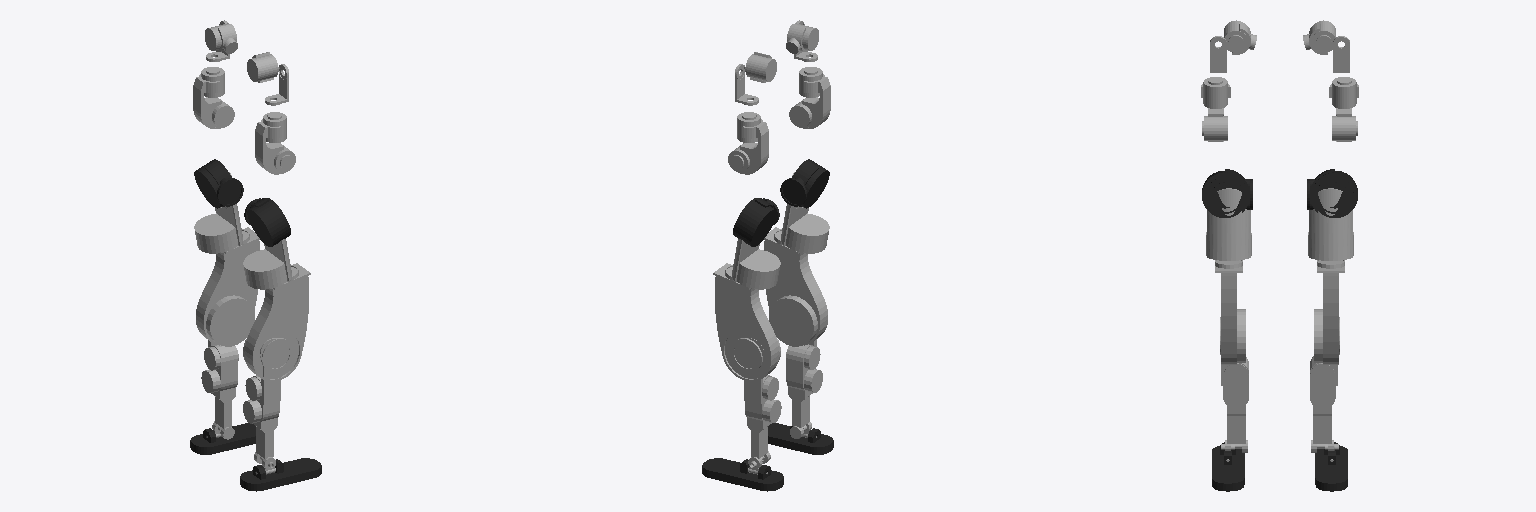
--- Facts derived from the render (not from the file) ---
The picture shows the robot from 3 angles, left to right: view 1: azimuth 30°, elevation 25°; view 2: azimuth 150°, elevation 25°; view 3: azimuth 270°, elevation 25°; orthographic projection.
Robot: g1_29dof_lock_waist_rev_1_0 — 39 links, 38 joints (27 revolute, 11 fixed); root link pelvis; default pose: every joint at zero.
Visible links, largest first — view 1: right_hip_yaw_link, left_hip_yaw_link, right_knee_link, left_knee_link, left_shoulder_yaw_link, right_shoulder_yaw_link, left_hip_roll_link, right_hip_roll_link, right_ankle_roll_link, left_hip_pitch_link, right_hip_pitch_link, left_ankle_roll_link (+2 smaller); view 2: left_hip_yaw_link, right_hip_yaw_link, left_knee_link, right_knee_link, right_shoulder_yaw_link, left_shoulder_yaw_link, right_hip_roll_link, left_hip_roll_link, left_ankle_roll_link, right_hip_pitch_link, left_hip_pitch_link, right_ankle_roll_link (+2 smaller); view 3: left_hip_roll_link, right_hip_roll_link, left_hip_yaw_link, right_hip_yaw_link, left_knee_link, right_knee_link, right_hip_pitch_link, left_hip_pitch_link, left_shoulder_yaw_link, right_shoulder_yaw_link, left_ankle_roll_link, right_ankle_roll_link (+4 smaller).
Link boxes in pixels (bbox=[...]): right_hip_yaw_link: bbox=[243, 263, 310, 381]; left_hip_yaw_link: bbox=[196, 227, 259, 346]; right_knee_link: bbox=[243, 338, 280, 469]; left_knee_link: bbox=[201, 340, 238, 439]; left_shoulder_yaw_link: bbox=[193, 67, 234, 128]; right_shoulder_yaw_link: bbox=[255, 112, 295, 174]; left_hip_roll_link: bbox=[194, 172, 242, 253]; right_hip_roll_link: bbox=[243, 239, 291, 289]; right_ankle_roll_link: bbox=[240, 458, 321, 491]; left_hip_pitch_link: bbox=[194, 159, 243, 208]; right_hip_pitch_link: bbox=[244, 198, 290, 246]; left_ankle_roll_link: bbox=[190, 423, 255, 454]; left_hip_yaw_link: bbox=[713, 263, 780, 381]; right_hip_yaw_link: bbox=[764, 227, 827, 346]; left_knee_link: bbox=[744, 338, 781, 469]; right_knee_link: bbox=[786, 339, 822, 438]; right_shoulder_yaw_link: bbox=[789, 67, 830, 128]; left_shoulder_yaw_link: bbox=[728, 112, 768, 174]; right_hip_roll_link: bbox=[781, 172, 829, 253]; left_hip_roll_link: bbox=[732, 239, 780, 289]; left_ankle_roll_link: bbox=[702, 458, 783, 491]; right_hip_pitch_link: bbox=[780, 159, 829, 208]; left_hip_pitch_link: bbox=[733, 198, 779, 246]; right_ankle_roll_link: bbox=[768, 423, 833, 454]; left_hip_roll_link: bbox=[1308, 188, 1353, 260]; right_hip_roll_link: bbox=[1206, 188, 1251, 260]; left_hip_yaw_link: bbox=[1314, 260, 1344, 364]; right_hip_yaw_link: bbox=[1215, 260, 1245, 364]; left_knee_link: bbox=[1310, 356, 1337, 452]; right_knee_link: bbox=[1221, 357, 1248, 452]; right_hip_pitch_link: bbox=[1202, 169, 1252, 217]; left_hip_pitch_link: bbox=[1307, 169, 1357, 217]; left_shoulder_yaw_link: bbox=[1329, 77, 1358, 141]; right_shoulder_yaw_link: bbox=[1201, 77, 1230, 141]; left_ankle_roll_link: bbox=[1315, 442, 1347, 491]; right_ankle_roll_link: bbox=[1212, 442, 1244, 491].
Bounding box of the posed robot: 0.208 × 0.3616 × 1.11 m (x, y, z).
Meshes: 35 distinct files referenced, 18 mesh visuals loaded (18 binary STL); not drawn: 17 (reference not matched to a file when rendering).

robot.urdf — g1_29dof_lock_waist_rev_1_0:
<robot name="g1_29dof_lock_waist_rev_1_0">
  <mujoco>
    <compiler meshdir="../meshes" discardvisual="false"/>
  </mujoco>

  <!-- [CAUTION] uncomment when convert to mujoco -->
  <!-- <link name="world"></link>
  <joint name="floating_base_joint" type="floating">
    <parent link="world"/>
    <child link="pelvis"/>
  </joint> -->

  <link name="pelvis">
    <inertial>
      <origin xyz="0 0 -0.07605" rpy="0 0 0"/>
      <mass value="3.813"/>
      <inertia ixx="0.010549" ixy="0" ixz="2.1E-06" iyy="0.0093089" iyz="0" izz="0.0079184"/>
    </inertial>
    <visual>
      <origin xyz="0 0 0" rpy="0 0 0"/>
      <geometry>
        <mesh filename="../meshes/pelvis.STL"/>
      </geometry>
      <material name="dark">
        <color rgba="0.2 0.2 0.2 1"/>
      </material>
    </visual>
  </link>
  <link name="pelvis_contour_link">
    <inertial>
      <origin xyz="0 0 0" rpy="0 0 0"/>
      <mass value="0.001"/>
      <inertia ixx="1e-7" ixy="0" ixz="0" iyy="1e-7" iyz="0" izz="1e-7"/>
    </inertial>
    <visual>
      <origin xyz="0 0 0" rpy="0 0 0"/>
      <geometry>
        <mesh filename="../meshes/pelvis_contour_link.STL"/>
      </geometry>
      <material name="white">
        <color rgba="0.7 0.7 0.7 1"/>
      </material>
    </visual>
    <collision>
      <origin xyz="0 0 0" rpy="0 0 0"/>
      <geometry>
        <mesh filename="../meshes/pelvis_contour_link.STL"/>
      </geometry>
    </collision>
  </link>
  <joint name="pelvis_contour_joint" type="fixed">
    <parent link="pelvis"/>
    <child link="pelvis_contour_link"/>
  </joint>

  <!-- Legs -->
  <link name="left_hip_pitch_link">
    <inertial>
      <origin xyz="0.002741 0.047791 -0.02606" rpy="0 0 0"/>
      <mass value="1.35"/>
      <inertia ixx="0.001811" ixy="3.68E-05" ixz="-3.44E-05" iyy="0.0014193" iyz="0.000171" izz="0.0012812"/>
    </inertial>
    <visual>
      <origin xyz="0 0 0" rpy="0 0 0"/>
      <geometry>
        <mesh filename="../meshes/left_hip_pitch_link.STL"/>
      </geometry>
      <material name="dark">
        <color rgba="0.2 0.2 0.2 1"/>
      </material>
    </visual>
    <collision>
      <origin xyz="0 0 0" rpy="0 0 0"/>
      <geometry>
        <mesh filename="../meshes/left_hip_pitch_link.STL"/>
      </geometry>
    </collision>
  </link>
  <joint name="left_hip_pitch_joint" type="revolute">
    <origin xyz="0 0.064452 -0.1027" rpy="0 0 0"/>
    <parent link="pelvis"/>
    <child link="left_hip_pitch_link"/>
    <axis xyz="0 1 0"/>
    <limit lower="-2.5307" upper="2.8798" effort="88" velocity="32"/>
  </joint>
  <link name="left_hip_roll_link">
    <inertial>
      <origin xyz="0.029812 -0.001045 -0.087934" rpy="0 0 0"/>
      <mass value="1.52"/>
      <inertia ixx="0.0023773" ixy="-3.8E-06" ixz="-0.0003908" iyy="0.0024123" iyz="1.84E-05" izz="0.0016595"/>
    </inertial>
    <visual>
      <origin xyz="0 0 0" rpy="0 0 0"/>
      <geometry>
        <mesh filename="../meshes/left_hip_roll_link.STL"/>
      </geometry>
      <material name="white">
        <color rgba="0.7 0.7 0.7 1"/>
      </material>
    </visual>
    <collision>
      <origin xyz="0 0 0" rpy="0 0 0"/>
      <geometry>
        <mesh filename="../meshes/left_hip_roll_link.STL"/>
      </geometry>
    </collision>
  </link>
  <joint name="left_hip_roll_joint" type="revolute">
    <origin xyz="0 0.052 -0.030465" rpy="0 -0.1749 0"/>
    <parent link="left_hip_pitch_link"/>
    <child link="left_hip_roll_link"/>
    <axis xyz="1 0 0"/>
    <limit lower="-0.5236" upper="2.9671" effort="139" velocity="20"/>
  </joint>
  <link name="left_hip_yaw_link">
    <inertial>
      <origin xyz="-0.057709 -0.010981 -0.15078" rpy="0 0 0"/>
      <mass value="1.702"/>
      <inertia ixx="0.0057774" ixy="-0.0005411" ixz="-0.0023948" iyy="0.0076124" iyz="-0.0007072" izz="0.003149"/>
    </inertial>
    <visual>
      <origin xyz="0 0 0" rpy="0 0 0"/>
      <geometry>
        <mesh filename="../meshes/left_hip_yaw_link.STL"/>
      </geometry>
      <material name="white">
        <color rgba="0.7 0.7 0.7 1"/>
      </material>
    </visual>
    <collision>
      <origin xyz="0 0 0" rpy="0 0 0"/>
      <geometry>
        <mesh filename="../meshes/left_hip_yaw_link.STL"/>
      </geometry>
    </collision>
  </link>
  <joint name="left_hip_yaw_joint" type="revolute">
    <origin xyz="0.025001 0 -0.12412" rpy="0 0 0"/>
    <parent link="left_hip_roll_link"/>
    <child link="left_hip_yaw_link"/>
    <axis xyz="0 0 1"/>
    <limit lower="-2.7576" upper="2.7576" effort="88" velocity="32"/>
  </joint>
  <link name="left_knee_link">
    <inertial>
      <origin xyz="0.005457 0.003964 -0.12074" rpy="0 0 0"/>
      <mass value="1.932"/>
      <inertia ixx="0.011329" ixy="4.82E-05" ixz="-4.49E-05" iyy="0.011277" iyz="-0.0007146" izz="0.0015168"/>
    </inertial>
    <visual>
      <origin xyz="0 0 0" rpy="0 0 0"/>
      <geometry>
        <mesh filename="../meshes/left_knee_link.STL"/>
      </geometry>
      <material name="white">
        <color rgba="0.7 0.7 0.7 1"/>
      </material>
    </visual>
    <collision>
      <origin xyz="0 0 0" rpy="0 0 0"/>
      <geometry>
        <mesh filename="../meshes/left_knee_link.STL"/>
      </geometry>
    </collision>
  </link>
  <joint name="left_knee_joint" type="revolute">
    <origin xyz="-0.078273 0.0021489 -0.17734" rpy="0 0.1749 0"/>
    <parent link="left_hip_yaw_link"/>
    <child link="left_knee_link"/>
    <axis xyz="0 1 0"/>
    <limit lower="-0.087267" upper="2.8798" effort="139" velocity="20"/>
  </joint>
  <link name="left_ankle_pitch_link">
    <inertial>
      <origin xyz="-0.007269 0 0.011137" rpy="0 0 0"/>
      <mass value="0.074"/>
      <inertia ixx="8.4E-06" ixy="0" ixz="-2.9E-06" iyy="1.89E-05" iyz="0" izz="1.26E-05"/>
    </inertial>
    <visual>
      <origin xyz="0 0 0" rpy="0 0 0"/>
      <geometry>
        <mesh filename="../meshes/left_ankle_pitch_link.STL"/>
      </geometry>
      <material name="white">
        <color rgba="0.7 0.7 0.7 1"/>
      </material>
    </visual>
    <collision>
      <origin xyz="0 0 0" rpy="0 0 0"/>
      <geometry>
        <mesh filename="../meshes/left_ankle_pitch_link.STL"/>
      </geometry>
    </collision>
  </link>
  <joint name="left_ankle_pitch_joint" type="revolute">
    <origin xyz="0 -9.4445E-05 -0.30001" rpy="0 0 0"/>
    <parent link="left_knee_link"/>
    <child link="left_ankle_pitch_link"/>
    <axis xyz="0 1 0"/>
    <limit lower="-0.87267" upper="0.5236" effort="50" velocity="37"/>
  </joint>
  <link name="left_ankle_roll_link">
    <inertial>
      <origin xyz="0.026505 0 -0.016425" rpy="0 0 0"/>
      <mass value="0.608"/>
      <inertia ixx="0.0002231" ixy="2E-07" ixz="8.91E-05" iyy="0.0016161" iyz="-1E-07" izz="0.0016667"/>
    </inertial>
    <visual>
      <origin xyz="0 0 0" rpy="0 0 0"/>
      <geometry>
        <mesh filename="../meshes/left_ankle_roll_link.STL"/>
      </geometry>
      <material name="dark">
        <color rgba="0.2 0.2 0.2 1"/>
      </material>
    </visual>
    <collision>
      <origin xyz="-0.05 0.025 -0.03" rpy="0 0 0"/>
      <geometry>
        <sphere radius="0.005"/>
      </geometry>
    </collision>
    <collision>
      <origin xyz="-0.05 -0.025 -0.03" rpy="0 0 0"/>
      <geometry>
        <sphere radius="0.005"/>
      </geometry>
    </collision>
    <collision>
      <origin xyz="0.12 0.03 -0.03" rpy="0 0 0"/>
      <geometry>
        <sphere radius="0.005"/>
      </geometry>
    </collision>
    <collision>
      <origin xyz="0.12 -0.03 -0.03" rpy="0 0 0"/>
      <geometry>
        <sphere radius="0.005"/>
      </geometry>
    </collision>
  </link>
  <joint name="left_ankle_roll_joint" type="revolute">
    <origin xyz="0 0 -0.017558" rpy="0 0 0"/>
    <parent link="left_ankle_pitch_link"/>
    <child link="left_ankle_roll_link"/>
    <axis xyz="1 0 0"/>
    <limit lower="-0.2618" upper="0.2618" effort="50" velocity="37"/>
  </joint>
  <link name="right_hip_pitch_link">
    <inertial>
      <origin xyz="0.002741 -0.047791 -0.02606" rpy="0 0 0"/>
      <mass value="1.35"/>
      <inertia ixx="0.001811" ixy="-3.68E-05" ixz="-3.44E-05" iyy="0.0014193" iyz="-0.000171" izz="0.0012812"/>
    </inertial>
    <visual>
      <origin xyz="0 0 0" rpy="0 0 0"/>
      <geometry>
        <mesh filename="../meshes/right_hip_pitch_link.STL"/>
      </geometry>
      <material name="dark">
        <color rgba="0.2 0.2 0.2 1"/>
      </material>
    </visual>
    <collision>
      <origin xyz="0 0 0" rpy="0 0 0"/>
      <geometry>
        <mesh filename="../meshes/right_hip_pitch_link.STL"/>
      </geometry>
    </collision>
  </link>
  <joint name="right_hip_pitch_joint" type="revolute">
    <origin xyz="0 -0.064452 -0.1027" rpy="0 0 0"/>
    <parent link="pelvis"/>
    <child link="right_hip_pitch_link"/>
    <axis xyz="0 1 0"/>
    <limit lower="-2.5307" upper="2.8798" effort="88" velocity="32"/>
  </joint>
  <link name="right_hip_roll_link">
    <inertial>
      <origin xyz="0.029812 0.001045 -0.087934" rpy="0 0 0"/>
      <mass value="1.52"/>
      <inertia ixx="0.0023773" ixy="3.8E-06" ixz="-0.0003908" iyy="0.0024123" iyz="-1.84E-05" izz="0.0016595"/>
    </inertial>
    <visual>
      <origin xyz="0 0 0" rpy="0 0 0"/>
      <geometry>
        <mesh filename="../meshes/right_hip_roll_link.STL"/>
      </geometry>
      <material name="white">
        <color rgba="0.7 0.7 0.7 1"/>
      </material>
    </visual>
    <collision>
      <origin xyz="0 0 0" rpy="0 0 0"/>
      <geometry>
        <mesh filename="../meshes/right_hip_roll_link.STL"/>
      </geometry>
    </collision>
  </link>
  <joint name="right_hip_roll_joint" type="revolute">
    <origin xyz="0 -0.052 -0.030465" rpy="0 -0.1749 0"/>
    <parent link="right_hip_pitch_link"/>
    <child link="right_hip_roll_link"/>
    <axis xyz="1 0 0"/>
    <limit lower="-2.9671" upper="0.5236" effort="139" velocity="20"/>
  </joint>
  <link name="right_hip_yaw_link">
    <inertial>
      <origin xyz="-0.057709 0.010981 -0.15078" rpy="0 0 0"/>
      <mass value="1.702"/>
      <inertia ixx="0.0057774" ixy="0.0005411" ixz="-0.0023948" iyy="0.0076124" iyz="0.0007072" izz="0.003149"/>
    </inertial>
    <visual>
      <origin xyz="0 0 0" rpy="0 0 0"/>
      <geometry>
        <mesh filename="../meshes/right_hip_yaw_link.STL"/>
      </geometry>
      <material name="white">
        <color rgba="0.7 0.7 0.7 1"/>
      </material>
    </visual>
    <collision>
      <origin xyz="0 0 0" rpy="0 0 0"/>
      <geometry>
        <mesh filename="../meshes/right_hip_yaw_link.STL"/>
      </geometry>
    </collision>
  </link>
  <joint name="right_hip_yaw_joint" type="revolute">
    <origin xyz="0.025001 0 -0.12412" rpy="0 0 0"/>
    <parent link="right_hip_roll_link"/>
    <child link="right_hip_yaw_link"/>
    <axis xyz="0 0 1"/>
    <limit lower="-2.7576" upper="2.7576" effort="88" velocity="32"/>
  </joint>
  <link name="right_knee_link">
    <inertial>
      <origin xyz="0.005457 -0.003964 -0.12074" rpy="0 0 0"/>
      <mass value="1.932"/>
      <inertia ixx="0.011329" ixy="-4.82E-05" ixz="4.49E-05" iyy="0.011277" iyz="0.0007146" izz="0.0015168"/>
    </inertial>
    <visual>
      <origin xyz="0 0 0" rpy="0 0 0"/>
      <geometry>
        <mesh filename="../meshes/right_knee_link.STL"/>
      </geometry>
      <material name="white">
        <color rgba="0.7 0.7 0.7 1"/>
      </material>
    </visual>
    <collision>
      <origin xyz="0 0 0" rpy="0 0 0"/>
      <geometry>
        <mesh filename="../meshes/right_knee_link.STL"/>
      </geometry>
    </collision>
  </link>
  <joint name="right_knee_joint" type="revolute">
    <origin xyz="-0.078273 -0.0021489 -0.17734" rpy="0 0.1749 0"/>
    <parent link="right_hip_yaw_link"/>
    <child link="right_knee_link"/>
    <axis xyz="0 1 0"/>
    <limit lower="-0.087267" upper="2.8798" effort="139" velocity="20"/>
  </joint>
  <link name="right_ankle_pitch_link">
    <inertial>
      <origin xyz="-0.007269 0 0.011137" rpy="0 0 0"/>
      <mass value="0.074"/>
      <inertia ixx="8.4E-06" ixy="0" ixz="-2.9E-06" iyy="1.89E-05" iyz="0" izz="1.26E-05"/>
    </inertial>
    <visual>
      <origin xyz="0 0 0" rpy="0 0 0"/>
      <geometry>
        <mesh filename="../meshes/right_ankle_pitch_link.STL"/>
      </geometry>
      <material name="white">
        <color rgba="0.7 0.7 0.7 1"/>
      </material>
    </visual>
    <collision>
      <origin xyz="0 0 0" rpy="0 0 0"/>
      <geometry>
        <mesh filename="../meshes/right_ankle_pitch_link.STL"/>
      </geometry>
    </collision>
  </link>
  <joint name="right_ankle_pitch_joint" type="revolute">
    <origin xyz="0 9.4445E-05 -0.30001" rpy="0 0 0"/>
    <parent link="right_knee_link"/>
    <child link="right_ankle_pitch_link"/>
    <axis xyz="0 1 0"/>
    <limit lower="-0.87267" upper="0.5236" effort="50" velocity="37"/>
  </joint>
  <link name="right_ankle_roll_link">
    <inertial>
      <origin xyz="0.026505 0 -0.016425" rpy="0 0 0"/>
      <mass value="0.608"/>
      <inertia ixx="0.0002231" ixy="-2E-07" ixz="8.91E-05" iyy="0.0016161" iyz="1E-07" izz="0.0016667"/>
    </inertial>
    <visual>
      <origin xyz="0 0 0" rpy="0 0 0"/>
      <geometry>
        <mesh filename="../meshes/right_ankle_roll_link.STL"/>
      </geometry>
      <material name="dark">
        <color rgba="0.2 0.2 0.2 1"/>
      </material>
    </visual>
    <collision>
      <origin xyz="-0.05 0.025 -0.03" rpy="0 0 0"/>
      <geometry>
        <sphere radius="0.005"/>
      </geometry>
    </collision>
    <collision>
      <origin xyz="-0.05 -0.025 -0.03" rpy="0 0 0"/>
      <geometry>
        <sphere radius="0.005"/>
      </geometry>
    </collision>
    <collision>
      <origin xyz="0.12 0.03 -0.03" rpy="0 0 0"/>
      <geometry>
        <sphere radius="0.005"/>
      </geometry>
    </collision>
    <collision>
      <origin xyz="0.12 -0.03 -0.03" rpy="0 0 0"/>
      <geometry>
        <sphere radius="0.005"/>
      </geometry>
    </collision>
  </link>
  <joint name="right_ankle_roll_joint" type="revolute">
    <origin xyz="0 0 -0.017558" rpy="0 0 0"/>
    <parent link="right_ankle_pitch_link"/>
    <child link="right_ankle_roll_link"/>
    <axis xyz="1 0 0"/>
    <limit lower="-0.2618" upper="0.2618" effort="50" velocity="37"/>
  </joint>

  <!-- Torso -->
  <link name="waist_yaw_link">
    <inertial>
      <origin xyz="0.003494 0.000233 0.018034" rpy="0 0 0"/>
      <mass value="0.214"/>
      <inertia ixx="0.00010673" ixy="2.703E-06" ixz="-7.631E-06" iyy="0.00010422" iyz="-2.01E-07" izz="0.0001625"/>
    </inertial>
    <visual>
      <origin xyz="0 0 0" rpy="0 0 0"/>
      <geometry>
        <mesh filename="../meshes/waist_yaw_link_rev_1_0.STL"/>
      </geometry>
      <material name="white">
        <color rgba="0.7 0.7 0.7 1"/>
      </material>
    </visual>
  </link>
  <joint name="waist_yaw_joint" type="revolute">
    <origin xyz="0 0 0" rpy="0 0 0"/>
    <parent link="pelvis"/>
    <child link="waist_yaw_link"/>
    <axis xyz="0 0 1"/>
    <limit lower="-2.618" upper="2.618" effort="88" velocity="32"/>
  </joint>
  <link name="waist_roll_link">
    <inertial>
      <origin xyz="0 2.3E-05 0" rpy="0 0 0"/>
      <mass value="0.086"/>
      <inertia ixx="7.079E-06" ixy="0" ixz="0" iyy="6.339E-06" iyz="0" izz="8.245E-06"/>
    </inertial>
    <visual>
      <origin xyz="0 0 0" rpy="0 0 0"/>
      <geometry>
        <mesh filename="../meshes/waist_roll_link_rev_1_0.STL"/>
      </geometry>
      <material name="white">
        <color rgba="0.7 0.7 0.7 1"/>
      </material>
    </visual>
  </link>
  <joint name="waist_roll_joint" type="fixed">
    <origin xyz="-0.0039635 0 0.044" rpy="0 0 0"/>
    <parent link="waist_yaw_link"/>
    <child link="waist_roll_link"/>
    <axis xyz="1 0 0"/>
    <limit lower="-0.52" upper="0.52" effort="50" velocity="37"/>
  </joint>
  <link name="torso_link">
    <inertial>
      <origin xyz="0.000931 0.000346 0.15082" rpy="0 0 0"/>
      <mass value="6.78"/>
      <inertia ixx="0.05905" ixy="3.3302E-05" ixz="-0.0017715" iyy="0.047014" iyz="-2.2399E-05" izz="0.025652"/>
    </inertial>
    <visual>
      <origin xyz="0 0 0" rpy="0 0 0"/>
      <geometry>
        <mesh filename="../meshes/torso_link_rev_1_0.STL"/>
      </geometry>
      <material name="white">
        <color rgba="0.7 0.7 0.7 1"/>
      </material>
    </visual>
    <collision>
      <origin xyz="0 0 0" rpy="0 0 0"/>
      <geometry>
        <mesh filename="../meshes/torso_link_rev_1_0.STL"/>
      </geometry>
    </collision>
  </link>
  <joint name="waist_pitch_joint" type="fixed">
    <origin xyz="0 0 0" rpy="0 0 0"/>
    <parent link="waist_roll_link"/>
    <child link="torso_link"/>
    <axis xyz="0 1 0"/>
    <limit lower="-0.52" upper="0.52" effort="50" velocity="37"/>
  </joint>

  <!-- LOGO -->
  <joint name="logo_joint" type="fixed">
    <origin xyz="0.0039635 0 -0.044" rpy="0 0 0"/>
    <parent link="torso_link"/>
    <child link="logo_link"/>
  </joint>
  <link name="logo_link">
    <inertial>
      <origin xyz="0 0 0" rpy="0 0 0"/>
      <mass value="0.001"/>
      <inertia ixx="1e-7" ixy="0" ixz="0" iyy="1e-7" iyz="0" izz="1e-7"/>
    </inertial>
    <visual>
      <origin xyz="0 0 0" rpy="0 0 0"/>
      <geometry>
        <mesh filename="../meshes/logo_link.STL"/>
      </geometry>
      <material name="dark">
        <color rgba="0.2 0.2 0.2 1"/>
      </material>
    </visual>
    <collision>
      <origin xyz="0 0 0" rpy="0 0 0"/>
      <geometry>
        <mesh filename="../meshes/logo_link.STL"/>
      </geometry>
    </collision>
  </link>

  <!-- Head -->
  <link name="head_link">
    <inertial>
      <origin xyz="0.005267 0.000299 0.449869" rpy="0 0 0"/>
      <mass value="1.036"/>
      <inertia ixx="0.004085051" ixy="-2.543E-06" ixz="-6.9455E-05" iyy="0.004185212" iyz="-3.726E-06" izz="0.001807911"/>
    </inertial>
    <visual>
      <origin xyz="0 0 0" rpy="0 0 0"/>
      <geometry>
        <mesh filename="../meshes/head_link.STL"/>
      </geometry>
      <material name="dark">
        <color rgba="0.2 0.2 0.2 1"/>
      </material>
    </visual>
    <collision>
      <origin xyz="0 0 0" rpy="0 0 0"/>
      <geometry>
        <mesh filename="../meshes/head_link.STL"/>
      </geometry>
    </collision>
  </link>
  <joint name="head_joint" type="fixed">
    <origin xyz="0.0039635 0 -0.044" rpy="0 0 0"/>
    <parent link="torso_link"/>
    <child link="head_link"/>
  </joint>


  <!-- IMU -->
  <link name="imu_in_torso"></link>
  <joint name="imu_in_torso_joint" type="fixed">
    <origin xyz="-0.03959 -0.00224 0.14792" rpy="0 0 0"/>
    <parent link="torso_link"/>
    <child link="imu_in_torso"/>
  </joint>

  <link name="imu_in_pelvis"></link>
  <joint name="imu_in_pelvis_joint" type="fixed">
    <origin xyz="0.04525 0 -0.08339" rpy="0 0 0"/>
    <parent link="pelvis"/>
    <child link="imu_in_pelvis"/>
  </joint>

  <!-- d435 -->
  <link name="d435_link"></link>
  <joint name="d435_joint" type="fixed">
    <origin xyz="0.0576235 0.01753 0.42987" rpy="0 0.8307767239493009 0"/>
    <parent link="torso_link"/>
    <child link="d435_link"/>
  </joint>

  <!-- mid360 -->
  <link name="mid360_link"></link>
  <joint name="mid360_joint" type="fixed">
    <origin xyz="0.0002835 0.00003 0.41618" rpy="0 0.04014257279586953 0"/>
    <parent link="torso_link"/>
    <child link="mid360_link"/>
  </joint>

  <!-- Arm -->
  <link name="left_shoulder_pitch_link">
    <inertial>
      <origin xyz="0 0.035892 -0.011628" rpy="0 0 0"/>
      <mass value="0.718"/>
      <inertia ixx="0.0004291" ixy="-9.2E-06" ixz="6.4E-06" iyy="0.000453" iyz="2.26E-05" izz="0.000423"/>
    </inertial>
    <visual>
      <origin xyz="0 0 0" rpy="0 0 0"/>
      <geometry>
        <mesh filename="../meshes/left_shoulder_pitch_link.STL"/>
      </geometry>
      <material name="white">
        <color rgba="0.7 0.7 0.7 1"/>
      </material>
    </visual>
    <collision>
      <origin xyz="0 0.04 -0.01" rpy="0 1.5707963267948966 0"/>
      <geometry>
        <cylinder radius="0.03" length="0.05"/>
      </geometry>
    </collision>
  </link>
  <joint name="left_shoulder_pitch_joint" type="revolute">
    <origin xyz="0.0039563 0.10022 0.24778" rpy="0.27931 5.4949E-05 -0.00019159"/>
    <parent link="torso_link"/>
    <child link="left_shoulder_pitch_link"/>
    <axis xyz="0 1 0"/>
    <limit lower="-3.0892" upper="2.6704" effort="25" velocity="37"/>
  </joint>
  <link name="left_shoulder_roll_link">
    <inertial>
      <origin xyz="-0.000227 0.00727 -0.063243" rpy="0 0 0"/>
      <mass value="0.643"/>
      <inertia ixx="0.0006177" ixy="-1E-06" ixz="8.7E-06" iyy="0.0006912" iyz="-5.3E-06" izz="0.0003894"/>
    </inertial>
    <visual>
      <origin xyz="0 0 0" rpy="0 0 0"/>
      <geometry>
        <mesh filename="../meshes/left_shoulder_roll_link.STL"/>
      </geometry>
      <material name="white">
        <color rgba="0.7 0.7 0.7 1"/>
      </material>
    </visual>
    <collision>
      <origin xyz="-0.004 0.006 -0.053" rpy="0 0 0"/>
      <geometry>
        <cylinder radius="0.03" length="0.03"/>
      </geometry>
    </collision>
  </link>
  <joint name="left_shoulder_roll_joint" type="revolute">
    <origin xyz="0 0.038 -0.013831" rpy="-0.27925 0 0"/>
    <parent link="left_shoulder_pitch_link"/>
    <child link="left_shoulder_roll_link"/>
    <axis xyz="1 0 0"/>
    <limit lower="-1.5882" upper="2.2515" effort="25" velocity="37"/>
  </joint>
  <link name="left_shoulder_yaw_link">
    <inertial>
      <origin xyz="0.010773 -0.002949 -0.072009" rpy="0 0 0"/>
      <mass value="0.734"/>
      <inertia ixx="0.0009988" ixy="7.9E-06" ixz="0.0001412" iyy="0.0010605" iyz="-2.86E-05" izz="0.0004354"/>
    </inertial>
    <visual>
      <origin xyz="0 0 0" rpy="0 0 0"/>
      <geometry>
        <mesh filename="../meshes/left_shoulder_yaw_link.STL"/>
      </geometry>
      <material name="white">
        <color rgba="0.7 0.7 0.7 1"/>
      </material>
    </visual>
    <collision>
      <origin xyz="0 0 0" rpy="0 0 0"/>
      <geometry>
        <mesh filename="../meshes/left_shoulder_yaw_link.STL"/>
      </geometry>
    </collision>
  </link>
  <joint name="left_shoulder_yaw_joint" type="revolute">
    <origin xyz="0 0.00624 -0.1032" rpy="0 0 0"/>
    <parent link="left_shoulder_roll_link"/>
    <child link="left_shoulder_yaw_link"/>
    <axis xyz="0 0 1"/>
    <limit lower="-2.618" upper="2.618" effort="25" velocity="37"/>
  </joint>
  <link name="left_elbow_link">
    <inertial>
      <origin xyz="0.064956 0.004454 -0.010062" rpy="0 0 0"/>
      <mass value="0.6"/>
      <inertia ixx="0.0002891" ixy="6.53E-05" ixz="1.72E-05" iyy="0.0004152" iyz="-5.6E-06" izz="0.0004197"/>
    </inertial>
    <visual>
      <origin xyz="0 0 0" rpy="0 0 0"/>
      <geometry>
        <mesh filename="../meshes/left_elbow_link.STL"/>
      </geometry>
      <material name="white">
        <color rgba="0.7 0.7 0.7 1"/>
      </material>
    </visual>
    <collision>
      <origin xyz="0 0 0" rpy="0 0 0"/>
      <geometry>
        <mesh filename="../meshes/left_elbow_link.STL"/>
      </geometry>
    </collision>
  </link>
  <joint name="left_elbow_joint" type="revolute">
    <origin xyz="0.015783 0 -0.080518" rpy="0 0 0"/>
    <parent link="left_shoulder_yaw_link"/>
    <child link="left_elbow_link"/>
    <axis xyz="0 1 0"/>
    <limit lower="-1.0472" upper="2.0944" effort="25" velocity="37"/>
  </joint>
  <joint name="left_wrist_roll_joint" type="revolute">
    <origin xyz="0.100 0.00188791 -0.010" rpy="0 0 0"/>
    <axis xyz="1 0 0"/>
    <parent link="left_elbow_link"/>
    <child link="left_wrist_roll_link"/>
    <limit effort="25" velocity="37" lower="-1.972222054" upper="1.972222054"/>
  </joint>
  <link name="left_wrist_roll_link">
    <inertial>
      <origin xyz="0.01713944778 0.00053759094 0.00000048864" rpy="0 0 0"/>
      <mass value="0.08544498"/>
      <inertia ixx="0.00004821544023" ixy="-0.00000424511021" ixz="0.00000000510599" iyy="0.00003722899093" iyz="-0.00000000123525" izz="0.00005482106541"/>
    </inertial>
    <visual>
      <origin xyz="0 0 0" rpy="0 0 0"/>
      <geometry>
        <mesh filename="../meshes/left_wrist_roll_link.STL"/>
      </geometry>
      <material name="white">
        <color rgba="0.7 0.7 0.7 1"/>
      </material>
    </visual>
    <collision>
      <origin xyz="0 0 0" rpy="0 0 0"/>
      <geometry>
        <mesh filename="../meshes/left_wrist_roll_link.STL"/>
      </geometry>
    </collision>
  </link>
  <joint name="left_wrist_pitch_joint" type="revolute">
    <origin xyz="0.038 0 0" rpy="0 0 0"/>
    <axis xyz="0 1 0"/>
    <parent link="left_wrist_roll_link"/>
    <child link="left_wrist_pitch_link"/>
    <limit effort="5" velocity="22" lower="-1.614429558" upper="1.614429558"/>
  </joint>
  <link name="left_wrist_pitch_link">
    <inertial>
      <origin xyz="0.02299989837 -0.00111685314 -0.00111658096" rpy="0 0 0"/>
      <mass value="0.48404956"/>
      <inertia ixx="0.00016579646273" ixy="-0.00001231206746" ixz="0.00001231699194" iyy="0.00042954057410" iyz="0.00000081417712" izz="0.00042953697654"/>
    </inertial>
    <visual>
      <origin xyz="0 0 0" rpy="0 0 0"/>
      <geometry>
        <mesh filename="../meshes/left_wrist_pitch_link.STL"/>
      </geometry>
      <material name="white">
        <color rgba="0.7 0.7 0.7 1"/>
      </material>
    </visual>
    <collision>
      <origin xyz="0 0 0" rpy="0 0 0"/>
      <geometry>
        <mesh filename="../meshes/left_wrist_pitch_link.STL"/>
      </geometry>
    </collision>
  </link>
  <joint name="left_wrist_yaw_joint" type="revolute">
    <origin xyz="0.046 0 0" rpy="0 0 0"/>
    <axis xyz="0 0 1"/>
    <parent link="left_wrist_pitch_link"/>
    <child link="left_wrist_yaw_link"/>
    <limit effort="5" velocity="22" lower="-1.614429558" upper="1.614429558"/>
  </joint>
  <link name="left_wrist_yaw_link">
    <inertial>
      <origin xyz="0.02200381568 0.00049485096 0.00053861123" rpy="0 0 0"/>
      <mass value="0.08457647"/>
      <inertia ixx="0.00004929128828" ixy="-0.00000045735494" ixz="0.00000445867591" iyy="0.00005973338134" iyz="0.00000043217198" izz="0.00003928083826"/>
    </inertial>
    <visual>
      <origin xyz="0 0 0" rpy="0 0 0"/>
      <geometry>
        <mesh filename="../meshes/left_wrist_yaw_link.STL"/>
      </geometry>
      <material name="white">
        <color rgba="0.7 0.7 0.7 1"/>
      </material>
    </visual>
    <collision>
      <origin xyz="0 0 0" rpy="0 0 0"/>
      <geometry>
        <mesh filename="../meshes/left_wrist_yaw_link.STL"/>
      </geometry>
    </collision>
  </link>
  <joint name="left_hand_palm_joint" type="fixed">
    <origin xyz="0.0415 0.003 0" rpy="0 0 0"/>
    <parent link="left_wrist_yaw_link"/>
    <child link="left_rubber_hand"/>
  </joint>
  <link name="left_rubber_hand">
    <inertial>
      <origin xyz="0.05361310808 -0.00295905240 0.00215413091" rpy="0 0 0"/>
      <mass value="0.170"/>
      <inertia ixx="0.00010099485234748" ixy="0.00003618590790516" ixz="-0.00000074301518642" iyy="0.00028135871571621" iyz="0.00000330189743286" izz="0.00021894770413514"/>
    </inertial>
    <visual>
      <origin xyz="0 0 0" rpy="0 0 0"/>
      <geometry>
        <mesh filename="../meshes/left_rubber_hand.STL"/>
      </geometry>
      <material name="white">
        <color rgba="0.7 0.7 0.7 1"/>
      </material>
    </visual>
  </link>
  <link name="right_shoulder_pitch_link">
    <inertial>
      <origin xyz="0 -0.035892 -0.011628" rpy="0 0 0"/>
      <mass value="0.718"/>
      <inertia ixx="0.0004291" ixy="9.2E-06" ixz="6.4E-06" iyy="0.000453" iyz="-2.26E-05" izz="0.000423"/>
    </inertial>
    <visual>
      <origin xyz="0 0 0" rpy="0 0 0"/>
      <geometry>
        <mesh filename="../meshes/right_shoulder_pitch_link.STL"/>
      </geometry>
      <material name="white">
        <color rgba="0.7 0.7 0.7 1"/>
      </material>
    </visual>
    <collision>
      <origin xyz="0 -0.04 -0.01" rpy="0 1.5707963267948966 0"/>
      <geometry>
        <cylinder radius="0.03" length="0.05"/>
      </geometry>
    </collision>
  </link>
  <joint name="right_shoulder_pitch_joint" type="revolute">
    <origin xyz="0.0039563 -0.10021 0.24778" rpy="-0.27931 5.4949E-05 0.00019159"/>
    <parent link="torso_link"/>
    <child link="right_shoulder_pitch_link"/>
    <axis xyz="0 1 0"/>
    <limit lower="-3.0892" upper="2.6704" effort="25" velocity="37"/>
  </joint>
  <link name="right_shoulder_roll_link">
    <inertial>
      <origin xyz="-0.000227 -0.00727 -0.063243" rpy="0 0 0"/>
      <mass value="0.643"/>
      <inertia ixx="0.0006177" ixy="1E-06" ixz="8.7E-06" iyy="0.0006912" iyz="5.3E-06" izz="0.0003894"/>
    </inertial>
    <visual>
      <origin xyz="0 0 0" rpy="0 0 0"/>
      <geometry>
        <mesh filename="../meshes/right_shoulder_roll_link.STL"/>
      </geometry>
      <material name="white">
        <color rgba="0.7 0.7 0.7 1"/>
      </material>
    </visual>
    <collision>
      <origin xyz="-0.004 -0.006 -0.053" rpy="0 0 0"/>
      <geometry>
        <cylinder radius="0.03" length="0.03"/>
      </geometry>
    </collision>
  </link>
  <joint name="right_shoulder_roll_joint" type="revolute">
    <origin xyz="0 -0.038 -0.013831" rpy="0.27925 0 0"/>
    <parent link="right_shoulder_pitch_link"/>
    <child link="right_shoulder_roll_link"/>
    <axis xyz="1 0 0"/>
    <limit lower="-2.2515" upper="1.5882" effort="25" velocity="37"/>
  </joint>
  <link name="right_shoulder_yaw_link">
    <inertial>
      <origin xyz="0.010773 0.002949 -0.072009" rpy="0 0 0"/>
      <mass value="0.734"/>
      <inertia ixx="0.0009988" ixy="-7.9E-06" ixz="0.0001412" iyy="0.0010605" iyz="2.86E-05" izz="0.0004354"/>
    </inertial>
    <visual>
      <origin xyz="0 0 0" rpy="0 0 0"/>
      <geometry>
        <mesh filename="../meshes/right_shoulder_yaw_link.STL"/>
      </geometry>
      <material name="white">
        <color rgba="0.7 0.7 0.7 1"/>
      </material>
    </visual>
    <collision>
      <origin xyz="0 0 0" rpy="0 0 0"/>
      <geometry>
        <mesh filename="../meshes/right_shoulder_yaw_link.STL"/>
      </geometry>
    </collision>
  </link>
  <joint name="right_shoulder_yaw_joint" type="revolute">
    <origin xyz="0 -0.00624 -0.1032" rpy="0 0 0"/>
    <parent link="right_shoulder_roll_link"/>
    <child link="right_shoulder_yaw_link"/>
    <axis xyz="0 0 1"/>
    <limit lower="-2.618" upper="2.618" effort="25" velocity="37"/>
  </joint>
  <link name="right_elbow_link">
    <inertial>
      <origin xyz="0.064956 -0.004454 -0.010062" rpy="0 0 0"/>
      <mass value="0.6"/>
      <inertia ixx="0.0002891" ixy="-6.53E-05" ixz="1.72E-05" iyy="0.0004152" iyz="5.6E-06" izz="0.0004197"/>
    </inertial>
    <visual>
      <origin xyz="0 0 0" rpy="0 0 0"/>
      <geometry>
        <mesh filename="../meshes/right_elbow_link.STL"/>
      </geometry>
      <material name="white">
        <color rgba="0.7 0.7 0.7 1"/>
      </material>
    </visual>
    <collision>
      <origin xyz="0 0 0" rpy="0 0 0"/>
      <geometry>
        <mesh filename="../meshes/right_elbow_link.STL"/>
      </geometry>
    </collision>
  </link>
  <joint name="right_elbow_joint" type="revolute">
    <origin xyz="0.015783 0 -0.080518" rpy="0 0 0"/>
    <parent link="right_shoulder_yaw_link"/>
    <child link="right_elbow_link"/>
    <axis xyz="0 1 0"/>
    <limit lower="-1.0472" upper="2.0944" effort="25" velocity="37"/>
  </joint>
  <joint name="right_wrist_roll_joint" type="revolute">
    <origin xyz="0.100 -0.00188791 -0.010" rpy="0 0 0"/>
    <axis xyz="1 0 0"/>
    <parent link="right_elbow_link"/>
    <child link="right_wrist_roll_link"/>
    <limit effort="25" velocity="37" lower="-1.972222054" upper="1.972222054"/>
  </joint>
  <link name="right_wrist_roll_link">
    <inertial>
      <origin xyz="0.01713944778 -0.00053759094 0.00000048864" rpy="0 0 0"/>
      <mass value="0.08544498"/>
      <inertia ixx="0.00004821544023" ixy="0.00000424511021" ixz="0.00000000510599" iyy="0.00003722899093" iyz="0.00000000123525" izz="0.00005482106541"/>
    </inertial>
    <visual>
      <origin xyz="0 0 0" rpy="0 0 0"/>
      <geometry>
        <mesh filename="../meshes/right_wrist_roll_link.STL"/>
      </geometry>
      <material name="white">
        <color rgba="0.7 0.7 0.7 1"/>
      </material>
    </visual>
    <collision>
      <origin xyz="0 0 0" rpy="0 0 0"/>
      <geometry>
        <mesh filename="../meshes/right_wrist_roll_link.STL"/>
      </geometry>
    </collision>
  </link>
  <joint name="right_wrist_pitch_joint" type="revolute">
    <origin xyz="0.038 0 0" rpy="0 0 0"/>
    <axis xyz="0 1 0"/>
    <parent link="right_wrist_roll_link"/>
    <child link="right_wrist_pitch_link"/>
    <limit effort="5" velocity="22" lower="-1.614429558" upper="1.614429558"/>
  </joint>
  <link name="right_wrist_pitch_link">
    <inertial>
      <origin xyz="0.02299989837 0.00111685314 -0.00111658096" rpy="0 0 0"/>
      <mass value="0.48404956"/>
      <inertia ixx="0.00016579646273" ixy="0.00001231206746" ixz="0.00001231699194" iyy="0.00042954057410" iyz="-0.00000081417712" izz="0.00042953697654"/>
    </inertial>
    <visual>
      <origin xyz="0 0 0" rpy="0 0 0"/>
      <geometry>
        <mesh filename="../meshes/right_wrist_pitch_link.STL"/>
      </geometry>
      <material name="white">
        <color rgba="0.7 0.7 0.7 1"/>
      </material>
    </visual>
    <collision>
      <origin xyz="0 0 0" rpy="0 0 0"/>
      <geometry>
        <mesh filename="../meshes/right_wrist_pitch_link.STL"/>
      </geometry>
    </collision>
  </link>
  <joint name="right_wrist_yaw_joint" type="revolute">
    <origin xyz="0.046 0 0" rpy="0 0 0"/>
    <axis xyz="0 0 1"/>
    <parent link="right_wrist_pitch_link"/>
    <child link="right_wrist_yaw_link"/>
    <limit effort="5" velocity="22" lower="-1.614429558" upper="1.614429558"/>
  </joint>
  <link name="right_wrist_yaw_link">
    <inertial>
      <origin xyz="0.02200381568 -0.00049485096 0.00053861123" rpy="0 0 0"/>
      <mass value="0.08457647"/>
      <inertia ixx="0.00004929128828" ixy="0.00000045735494" ixz="0.00000445867591" iyy="0.00005973338134" iyz="-0.00000043217198" izz="0.00003928083826"/>
    </inertial>
    <visual>
      <origin xyz="0 0 0" rpy="0 0 0"/>
      <geometry>
        <mesh filename="../meshes/right_wrist_yaw_link.STL"/>
      </geometry>
      <material name="white">
        <color rgba="0.7 0.7 0.7 1"/>
      </material>
    </visual>
    <collision>
      <origin xyz="0 0 0" rpy="0 0 0"/>
      <geometry>
        <mesh filename="../meshes/right_wrist_yaw_link.STL"/>
      </geometry>
    </collision>
  </link>
  <joint name="right_hand_palm_joint" type="fixed">
    <origin xyz="0.0415 -0.003 0" rpy="0 0 0"/>
    <parent link="right_wrist_yaw_link"/>
    <child link="right_rubber_hand"/>
  </joint>
  <link name="right_rubber_hand">
    <inertial>
      <origin xyz="0.05361310808 0.00295905240 0.00215413091" rpy="0 0 0"/>
      <mass value="0.170"/>
      <inertia ixx="0.00010099485234748" ixy="-0.00003618590790516" ixz="-0.00000074301518642" iyy="0.00028135871571621" iyz="-0.00000330189743286" izz="0.00021894770413514"/>
    </inertial>
    <visual>
      <origin xyz="0 0 0" rpy="0 0 0"/>
      <geometry>
        <mesh filename="../meshes/right_rubber_hand.STL"/>
      </geometry>
      <material name="white">
        <color rgba="0.7 0.7 0.7 1"/>
      </material>
    </visual>
  </link>
</robot>
